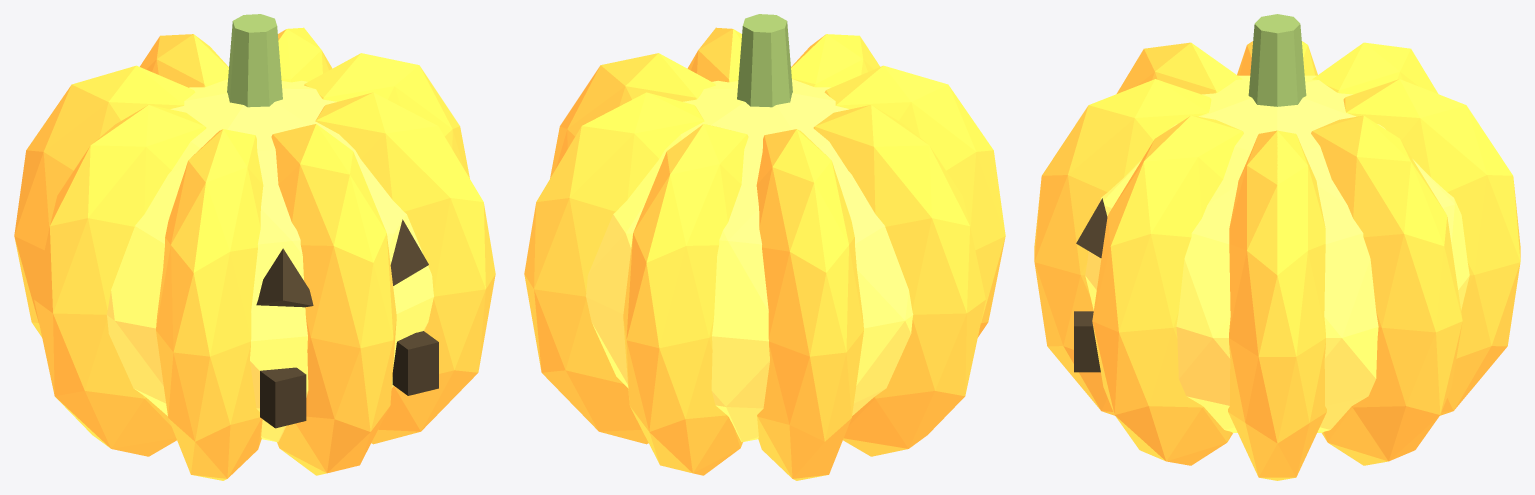
Rendered from halloween_pumpkin.glb.
3 views of the same model, side by side, from view 1: azimuth 30°, elevation 25°; view 2: azimuth 150°, elevation 25°; view 3: azimuth 270°, elevation 25° (orthographic).
Visible parts, largest first — view 1: Pumpkin; view 2: Pumpkin; view 3: Pumpkin.
Boxes of the visible parts, x1,y1,x2,y2 form: Pumpkin: [14, 14, 495, 480]; Pumpkin: [524, 14, 1005, 480]; Pumpkin: [1034, 14, 1520, 480].
Size of the model in its own units: 1.91 by 1.76 by 1.91.
